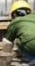boots: (0, 62, 12, 66), (0, 61, 7, 66)
gloves: (0, 0, 18, 10), (0, 1, 8, 20)
hard-hat: (0, 0, 15, 13)
ppe-suit: (0, 0, 18, 41)
